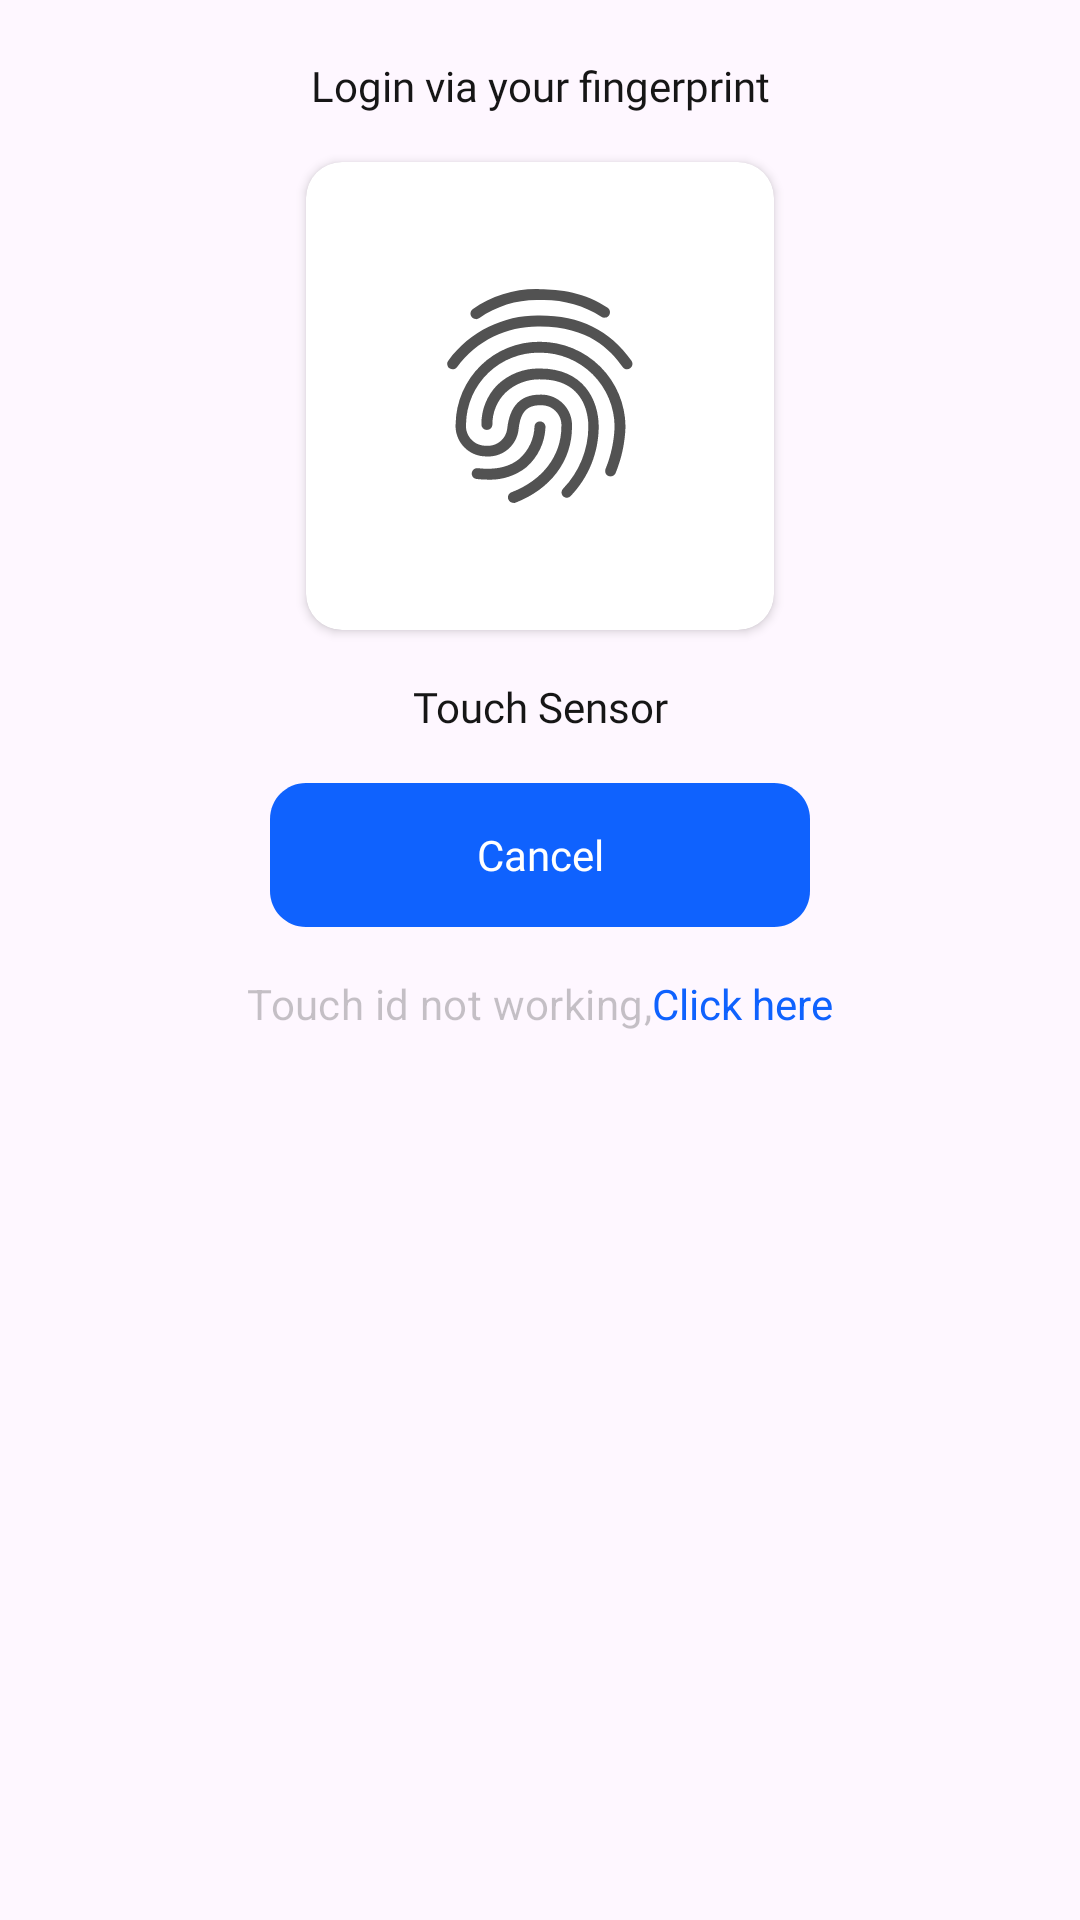

Icon click points for this 1080x1920 phone screenshot, format (x=x, y=y):
fingerprint recognition: (x=540, y=396)
